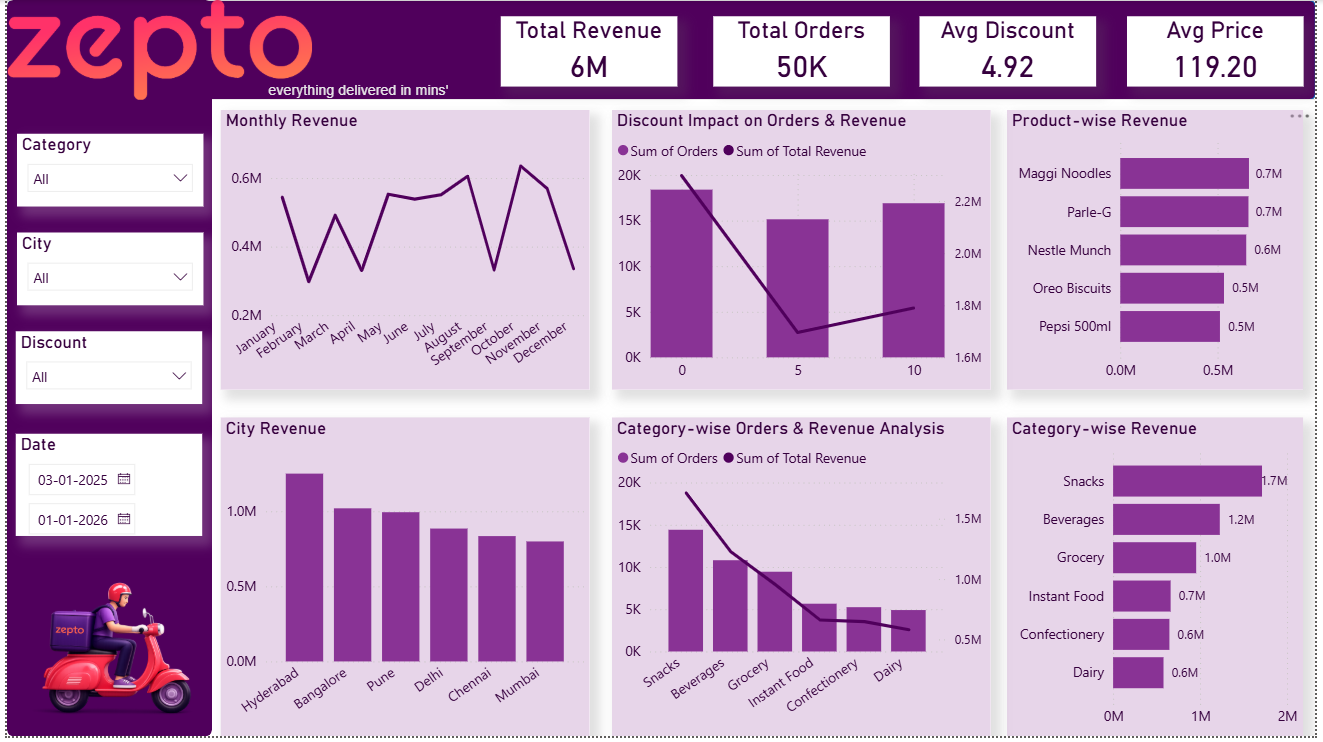

This screenshot's page, from the dashboard's own definition file:
{"tool":"powerbi","page":{"name":"Page 1","canvas":[1280,720],"ordinal":0},"visuals":[{"type":"shape","box":[0,0,1280.3,97.8],"z":0},{"type":"shape","box":[0,0,200.5,720.2],"z":1000},{"type":"lineChart","title":"Monthly Revenue ","fields":{"Y":["Sum(zepto dataset.Total Revenue)"],"Category":["zepto dataset.Order_Date.Variation.Date Hierarchy.Month"]},"box":[209.1,107.6,360.7,273.9],"z":2000},{"type":"clusteredBarChart","title":"Category-wise Revenue ","fields":{"Y":["Sum(zepto dataset.Total Revenue)"],"Category":["zepto dataset.Category"]},"box":[978.3,408.4,289.8,311.8],"z":3000},{"type":"clusteredColumnChart","title":"City Revenue ","fields":{"Category":["zepto dataset.City"],"Y":["Sum(zepto dataset.Total Revenue)"]},"box":[209.1,408.4,360.7,311.8],"z":4000},{"type":"clusteredBarChart","title":"Product-wise Revenue ","fields":{"Category":["zepto dataset.Product Name"],"Y":["Sum(zepto dataset.Total Revenue)"]},"box":[978.3,107.6,289.8,273.9],"z":5000},{"type":"lineStackedColumnComboChart","title":"Category-wise Orders & Revenue Analysis","fields":{"Y":["Sum(zepto dataset.Orders)"],"Category":["zepto dataset.Category"],"Y2":["Sum(zepto dataset.Total Revenue)"]},"box":[591.9,408.4,370.5,311.8],"z":6000},{"type":"lineStackedColumnComboChart","title":"Discount Impact on Orders & Revenue","fields":{"Y":["Sum(zepto dataset.Orders)"],"Y2":["Sum(zepto dataset.Total Revenue)"],"Category":["zepto dataset.Discount"]},"box":[591.9,107.6,370.5,273.9],"z":7000},{"type":"card","title":"Total Revenue","fields":{"Values":["Sum(zepto dataset.Total Revenue)"]},"box":[483,15.9,172.4,68.5],"z":8000},{"type":"card","title":"Avg Price","fields":{"Values":["Avg(zepto dataset.Current Price)"]},"box":[1095.7,15.9,172.4,68.5],"z":9000},{"type":"card","title":"Avg Discount","fields":{"Values":["Avg(zepto dataset.Discount)"]},"box":[892.7,15.9,172.4,68.5],"z":10000},{"type":"card","title":"Total Orders","fields":{"Values":["Sum(zepto dataset.Orders)"]},"box":[690.9,15.9,172.4,68.5],"z":11000},{"type":"slicer","title":"Category","fields":{"Values":["zepto dataset.Category"]},"box":[9.8,130.8,182.2,70.9],"z":12000},{"type":"slicer","title":"Date","fields":{"Values":["zepto dataset.Order_Date"]},"box":[8.6,424.3,182.2,100.3],"z":13000},{"type":"slicer","title":"Discount","fields":{"Values":["zepto dataset.Discount"]},"box":[8.6,324.1,182.2,70.9],"z":14000},{"type":"slicer","title":"City","fields":{"Values":["zepto dataset.City"]},"box":[9.8,227.4,182.2,70.9],"z":15000},{"type":"image","box":[0,552.7,209.1,167.5],"z":16000},{"type":"image","box":[0,0,299.6,97.8],"z":17000},{"type":"textbox","box":[250.7,73.4,254.3,47.7],"z":17001}]}

Visuals, with their boxes in screenshot pixels (x1, y1, x2, y2), scaled from the page's 1280x720 canvas onto the 1323x742 screenshot:
shape: pyautogui.locateOnScreen(0, 0, 1322, 101)
shape: pyautogui.locateOnScreen(0, 0, 207, 741)
"Monthly Revenue " lineChart: pyautogui.locateOnScreen(216, 111, 589, 393)
"Category-wise Revenue " clusteredBarChart: pyautogui.locateOnScreen(1011, 421, 1311, 741)
"City Revenue " clusteredColumnChart: pyautogui.locateOnScreen(216, 421, 589, 741)
"Product-wise Revenue " clusteredBarChart: pyautogui.locateOnScreen(1011, 111, 1311, 393)
"Category-wise Orders & Revenue Analysis" lineStackedColumnComboChart: pyautogui.locateOnScreen(612, 421, 995, 741)
"Discount Impact on Orders & Revenue" lineStackedColumnComboChart: pyautogui.locateOnScreen(612, 111, 995, 393)
"Total Revenue" card: pyautogui.locateOnScreen(499, 16, 677, 87)
"Avg Price" card: pyautogui.locateOnScreen(1133, 16, 1311, 87)
"Avg Discount" card: pyautogui.locateOnScreen(923, 16, 1101, 87)
"Total Orders" card: pyautogui.locateOnScreen(714, 16, 892, 87)
"Category" slicer: pyautogui.locateOnScreen(10, 135, 198, 208)
"Date" slicer: pyautogui.locateOnScreen(9, 437, 197, 541)
"Discount" slicer: pyautogui.locateOnScreen(9, 334, 197, 407)
"City" slicer: pyautogui.locateOnScreen(10, 234, 198, 307)
image: pyautogui.locateOnScreen(0, 570, 216, 741)
image: pyautogui.locateOnScreen(0, 0, 310, 101)
textbox: pyautogui.locateOnScreen(259, 76, 522, 125)
